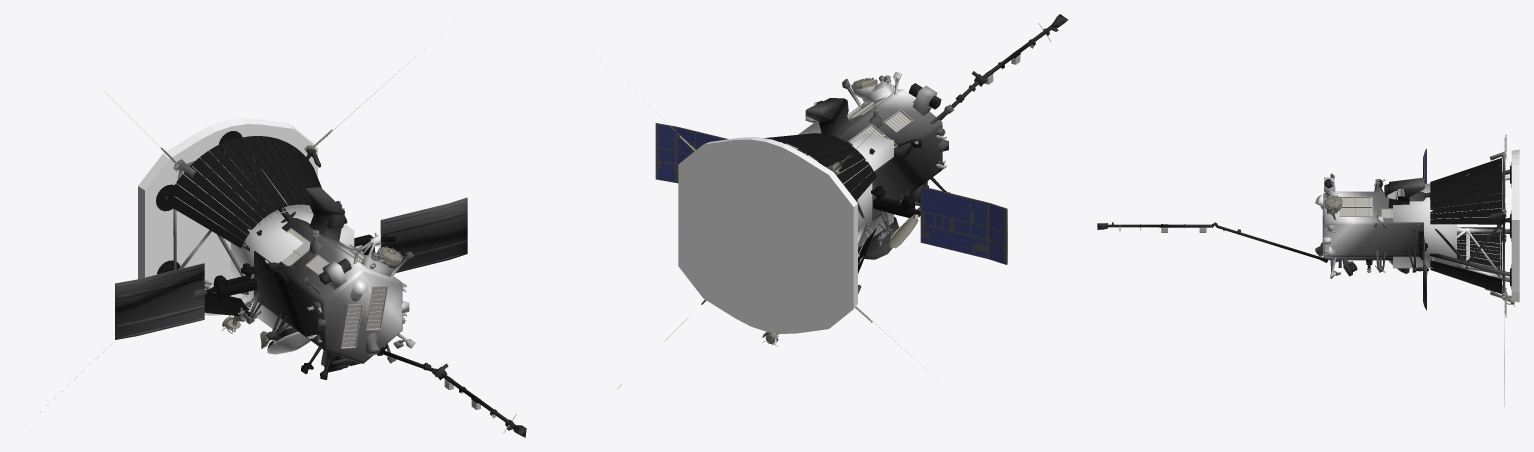
File: parker.glb
The picture shows the model from 3 angles, left to right: view 1: azimuth 30°, elevation 25°; view 2: azimuth 150°, elevation 25°; view 3: azimuth 270°, elevation 25°; orthographic projection. The views are drawn at different scales.
Visible parts, largest first — view 1: BUS, CoolingSystem, Instruments, _root, CoolingSystem_frame, solarArray_arms, HGA; view 2: Instruments, BUS, CoolingSystem, _root, CoolingSystem_frame, solarArray_arms; view 3: BUS, CoolingSystem, _root, Instruments, CoolingSystem_frame.
Boxes of the visible parts, x1,y1,x2,y2 form: BUS: (115,143,526,437); CoolingSystem: (156,131,321,317); Instruments: (115,118,466,348); _root: (231,203,354,330); CoolingSystem_frame: (26,34,440,425); solarArray_arms: (205,234,382,297); HGA: (267,331,310,354); Instruments: (655,77,1006,346); BUS: (656,14,1068,293); CoolingSystem: (764,133,876,273); _root: (786,121,893,247); CoolingSystem_frame: (571,31,967,406); solarArray_arms: (871,186,920,217); BUS: (1097,149,1509,309); CoolingSystem: (1430,158,1511,293); _root: (1393,183,1456,268); Instruments: (1324,134,1519,317); CoolingSystem_frame: (1322,165,1511,406).
Bounding box in the file's own units: 5.75 × 5.26 × 6.6.
6 materials, 2 textured.
